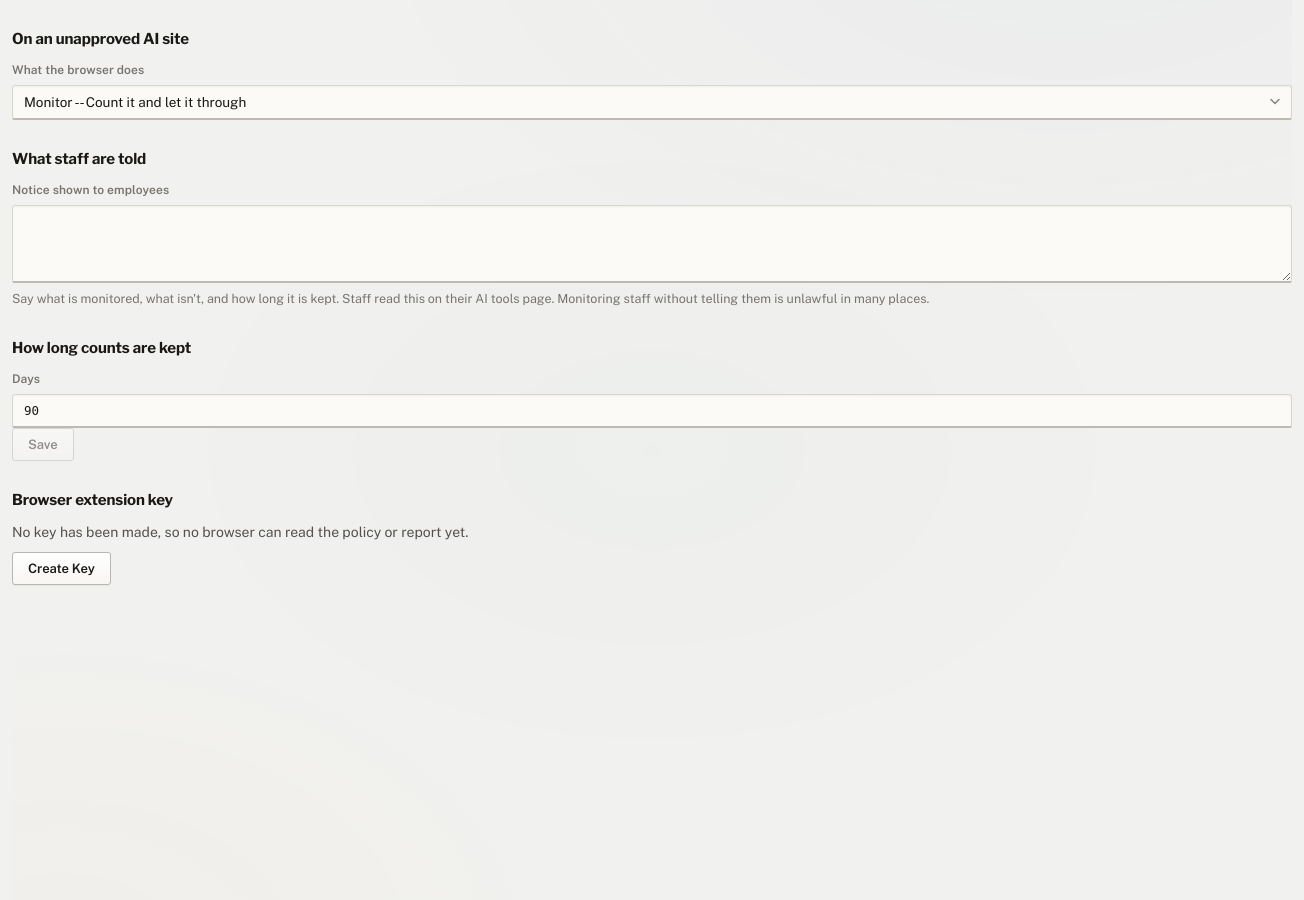
Scenario: AIUseSettingsPanel › says no key has been made, and shows the new one once
Expected: the text "No key has been made" is shown, [12,524,468,540]
Note: No confirmation is asked for when there is nothing to replace.
Click the button "Create Key" at (61, 568), box [12,552,111,584]
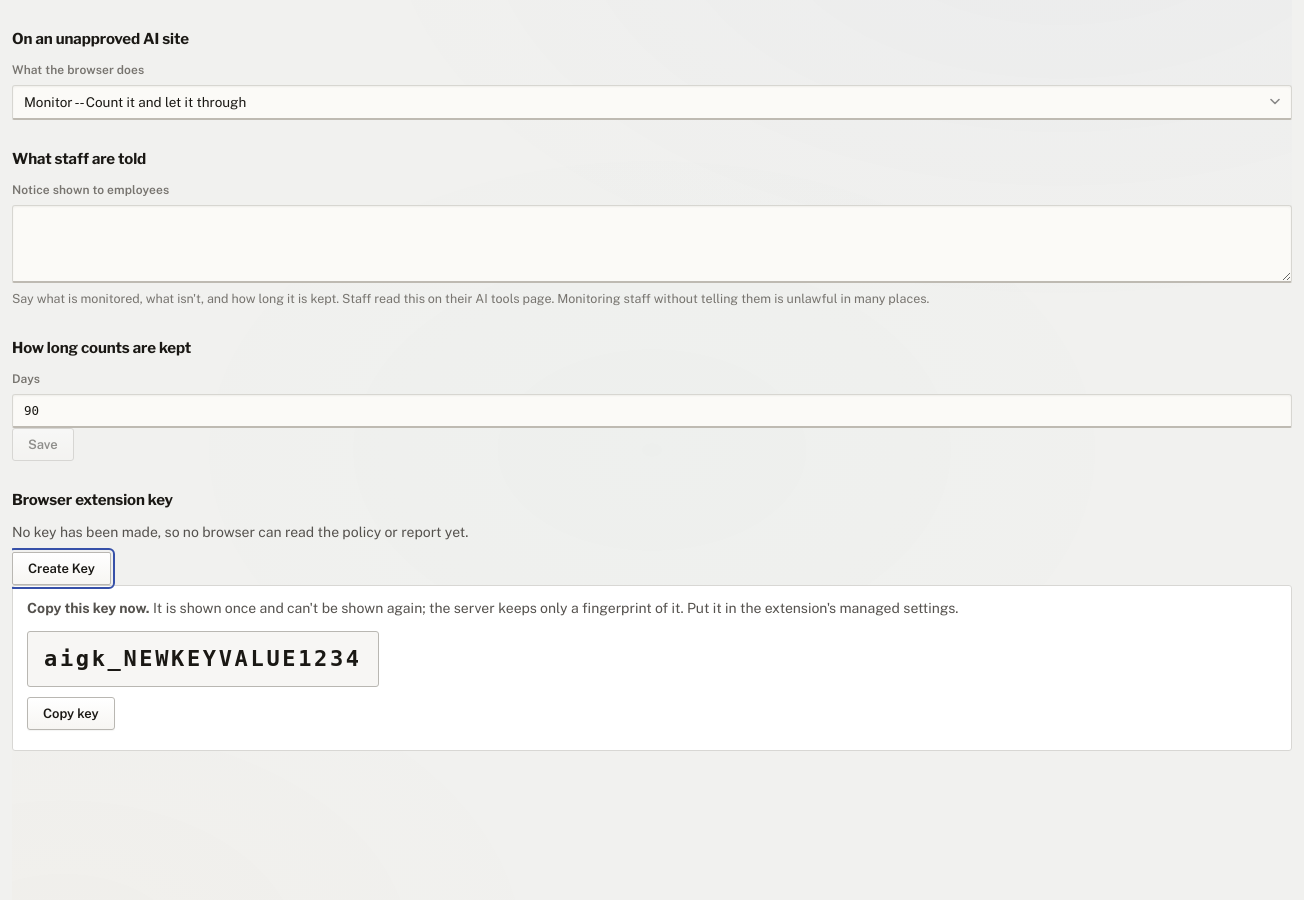
Result: the text "aigk_NEWKEYVALUE1234" is shown at [27,631,379,687]
Result: the message shows "shown once and can't be shown again" at [150,600,958,616]
